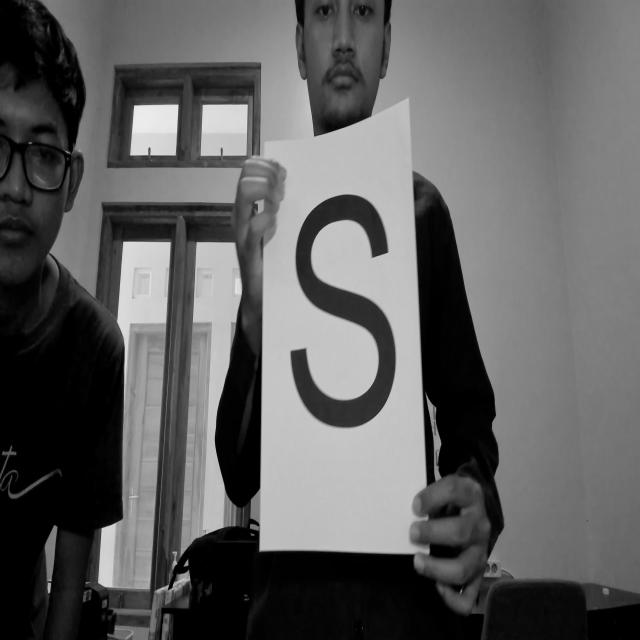s: (275, 170, 405, 444)
